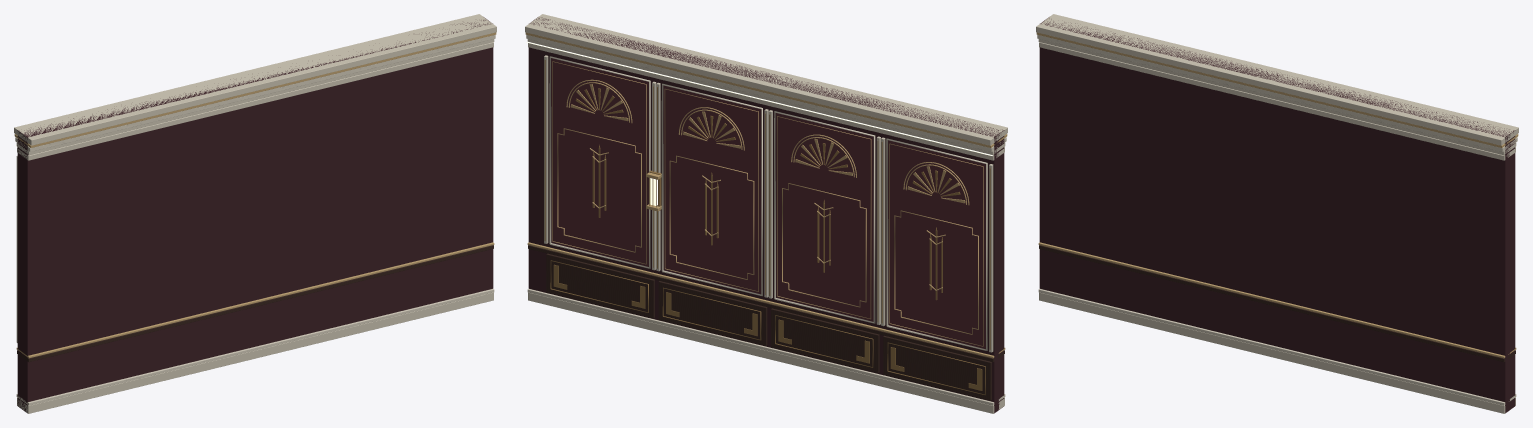
Rendered from casino-deco-casino-wall-wn.glb.
The picture shows the model from 3 angles, left to right: view 1: azimuth 30°, elevation 25°; view 2: azimuth 150°, elevation 25°; view 3: azimuth 330°, elevation 25°; orthographic projection.
Parts seen in each view (by area): view 1: casino-wall-wn / Entry deep oxblood reveals, casino-wall-wn / Entry carved limestone, casino-wall-wn / Entry ivory marble, casino-wall-wn / Entry champagne brass, casino-wall-wn / Entry dark walnut; view 2: casino-wall-wn / Entry smoky oxblood lacquer, casino-wall-wn / Entry carved limestone, casino-wall-wn / Entry dark walnut, casino-wall-wn / Entry deep oxblood reveals, casino-wall-wn / Entry champagne brass, casino-wall-wn / Entry aged bronze, casino-wall-wn / Entry ivory marble, casino-wall-wn / Entry warm opal; view 3: casino-wall-wn / Entry deep oxblood reveals, casino-wall-wn / Entry carved limestone, casino-wall-wn / Entry ivory marble, casino-wall-wn / Entry champagne brass, casino-wall-wn / Entry dark walnut.
Part boxes in pixels (x1,y1,x2,y2): casino-wall-wn / Entry deep oxblood reveals: (17,17,493,412); casino-wall-wn / Entry carved limestone: (14,14,496,413); casino-wall-wn / Entry ivory marble: (15,35,495,405); casino-wall-wn / Entry champagne brass: (14,32,496,358); casino-wall-wn / Entry dark walnut: (17,245,493,362); casino-wall-wn / Entry smoky oxblood lacquer: (551,58,985,349); casino-wall-wn / Entry carved limestone: (525,14,1007,413); casino-wall-wn / Entry dark walnut: (528,245,1004,400); casino-wall-wn / Entry deep oxblood reveals: (528,17,1004,413); casino-wall-wn / Entry champagne brass: (525,32,1007,358); casino-wall-wn / Entry aged bronze: (544,59,990,395); casino-wall-wn / Entry ivory marble: (526,35,1006,405); casino-wall-wn / Entry warm opal: (526,41,992,205); casino-wall-wn / Entry deep oxblood reveals: (1039,17,1515,413); casino-wall-wn / Entry carved limestone: (1036,14,1518,413); casino-wall-wn / Entry ivory marble: (1037,35,1517,405); casino-wall-wn / Entry champagne brass: (1036,32,1518,358); casino-wall-wn / Entry dark walnut: (1039,245,1515,362).
Size of the model in its own units: 12 by 6.8 by 0.833.
Materials: 8 (2 with a texture image).
